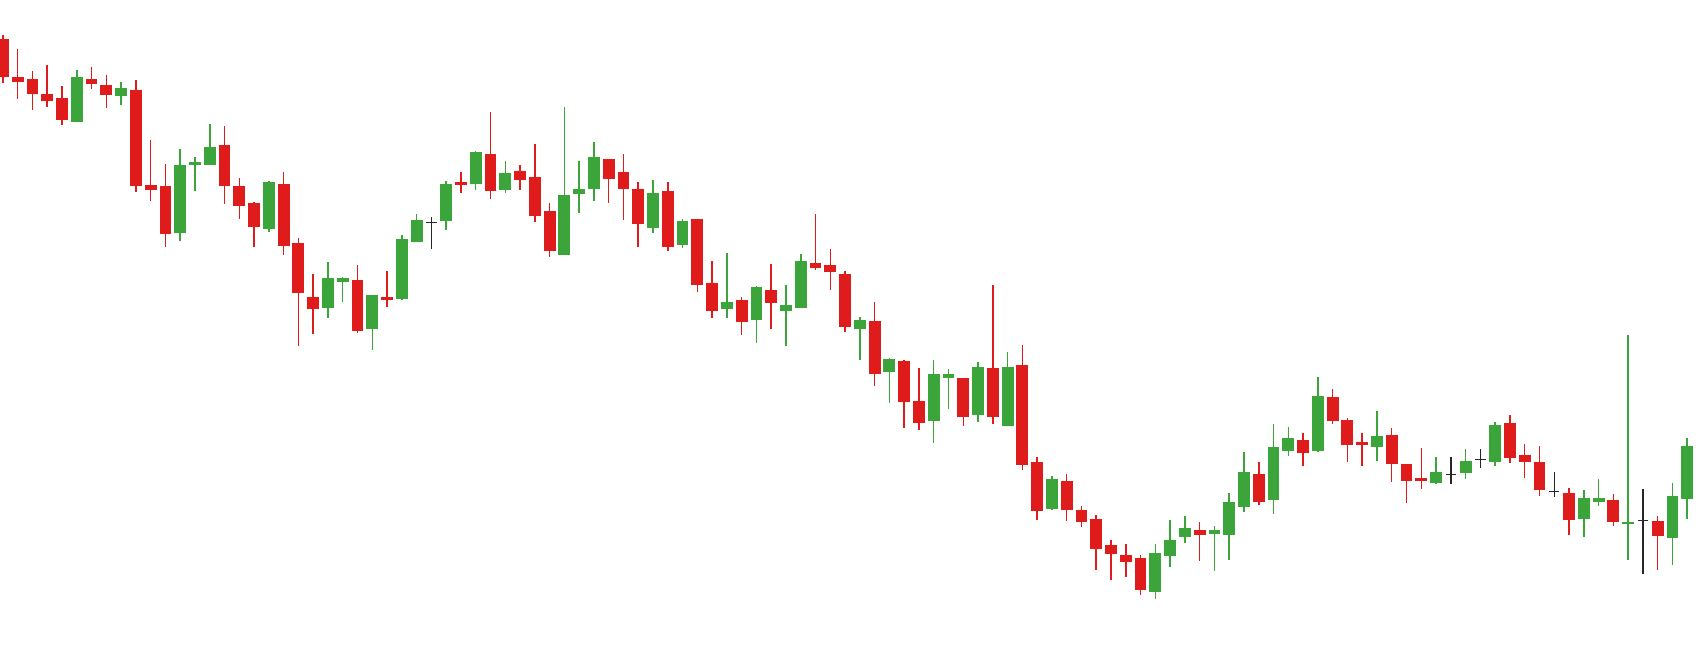sell: (865, 281, 1001, 429), (720, 203, 823, 314)
